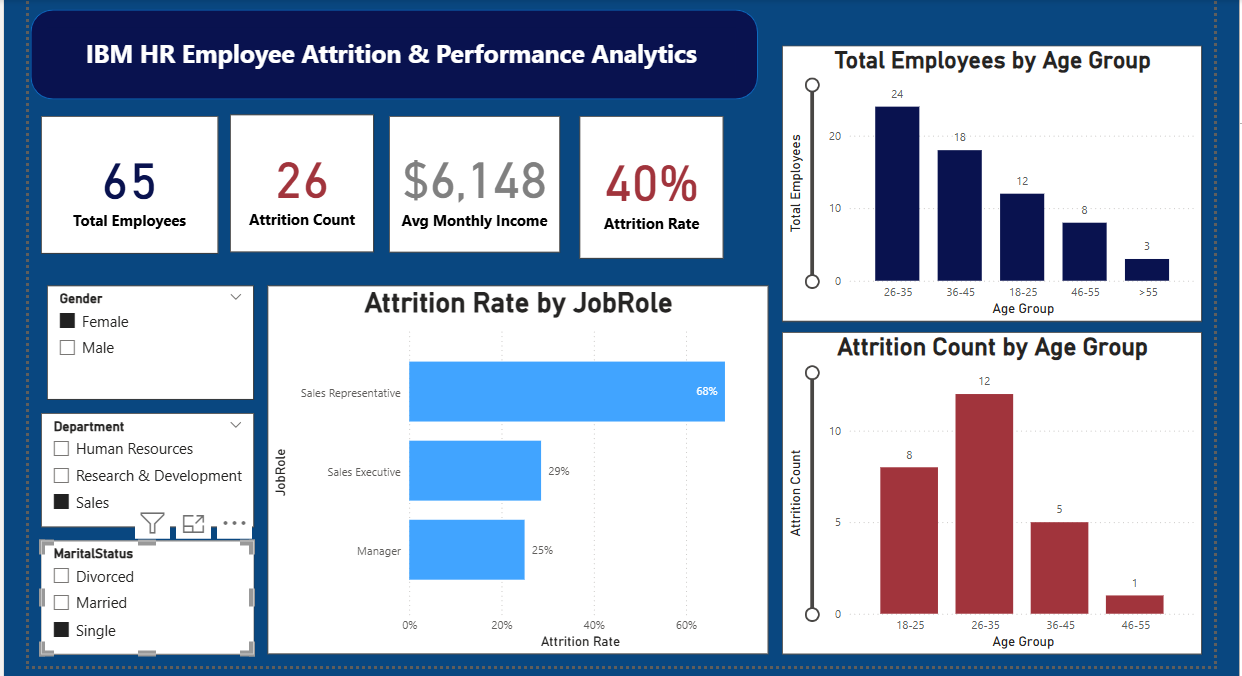

The page's visual inventory and layout, read from the dashboard file:
{"tool":"powerbi","page":{"name":"Page 1","canvas":[1280,720],"ordinal":0},"visuals":[{"type":"clusteredColumnChart","fields":{"Category":["Table.Age Group"],"Y":["_Measures.Total Employees"]},"box":[812.9,50.2,453.4,297.9],"z":0},{"type":"card","fields":{"Values":["_Measures.Total Employees"]},"box":[13,126.3,191.1,149],"z":1000},{"type":"card","fields":{"Values":["_Measures.Attrition Count"]},"box":[217,124.7,155.4,149],"z":2000},{"type":"card","fields":{"Values":["_Measures.Attrition Rate"]},"box":[594.3,126.3,155.4,153.8],"z":3000},{"type":"card","fields":{"Values":["_Measures.Avg Monthly Income"]},"box":[388.6,126.3,184.6,147.3],"z":4000},{"type":"clusteredBarChart","fields":{"Category":["WA_Fn-UseC_-HR-Employee-Attrition.JobRole"],"Y":["_Measures.Attrition Rate"]},"box":[257.5,309.3,540.8,398.3],"z":5000},{"type":"clusteredColumnChart","fields":{"Category":["Table.Age Group"],"Y":["_Measures.Attrition Count"]},"box":[812.9,359.5,453.4,348.1],"z":6000},{"type":"slicer","fields":{"Values":["WA_Fn-UseC_-HR-Employee-Attrition.Department"]},"box":[13,446.9,229.9,123.1],"z":7000},{"type":"slicer","fields":{"Values":["WA_Fn-UseC_-HR-Employee-Attrition.Gender"]},"box":[19.4,309.3,223.5,123.1],"z":8000},{"type":"slicer","fields":{"Values":["WA_Fn-UseC_-HR-Employee-Attrition.MaritalStatus"]},"box":[13,584.5,229.9,123.1],"z":9000},{"type":"shape","box":[1.6,11.3,785.3,97.2],"z":10000},{"type":"textbox","box":[19.4,30.8,743.2,56.7],"z":11000}]}

Visuals, with their boxes in screenshot pixels (x1, y1, x2, y2):
clusteredColumnChart - Table.Age Group x _Measures.Total Employees: region(779, 40, 1198, 316)
card - _Measures.Total Employees: region(38, 110, 215, 248)
card - _Measures.Attrition Count: region(227, 109, 371, 247)
card - _Measures.Attrition Rate: region(576, 110, 720, 253)
card - _Measures.Avg Monthly Income: region(386, 110, 557, 247)
clusteredBarChart - WA_Fn-UseC_-HR-Employee-Attrition.JobRole x _Measures.Attrition Rate: region(264, 280, 765, 649)
clusteredColumnChart - Table.Age Group x _Measures.Attrition Count: region(779, 326, 1198, 649)
slicer - WA_Fn-UseC_-HR-Employee-Attrition.Department: region(38, 407, 251, 521)
slicer - WA_Fn-UseC_-HR-Employee-Attrition.Gender: region(44, 280, 251, 394)
slicer - WA_Fn-UseC_-HR-Employee-Attrition.MaritalStatus: region(38, 535, 251, 649)
shape: region(27, 4, 754, 94)
textbox: region(44, 22, 732, 75)
